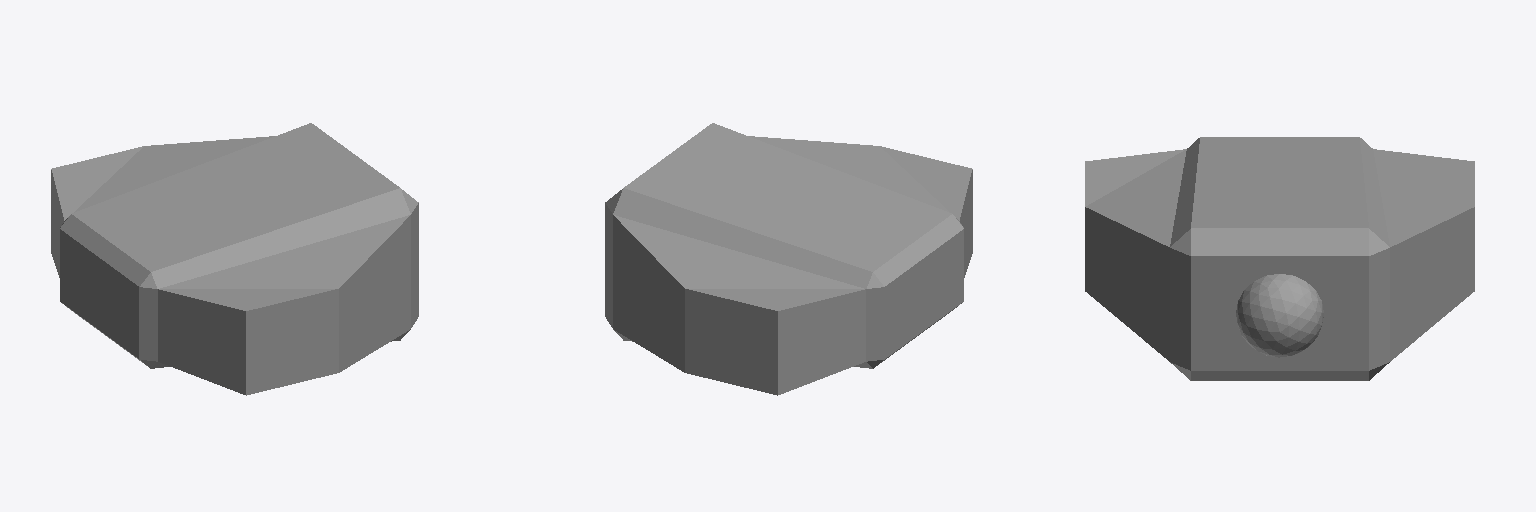
Rendered from body.obj.
3 renders of one model, left to right at view 1: azimuth 30°, elevation 25°; view 2: azimuth 150°, elevation 25°; view 3: azimuth 270°, elevation 25°, orthographic.
Parts seen in each view (by area): view 1: Cube; view 2: Cube; view 3: Cube.
Boxes of the visible parts, x1,y1,x2,y2 form: Cube: [51, 123, 418, 395]; Cube: [605, 123, 972, 395]; Cube: [1085, 137, 1474, 380].
Bounding box in the file's own units: 0.6867 × 0.32 × 0.7406.